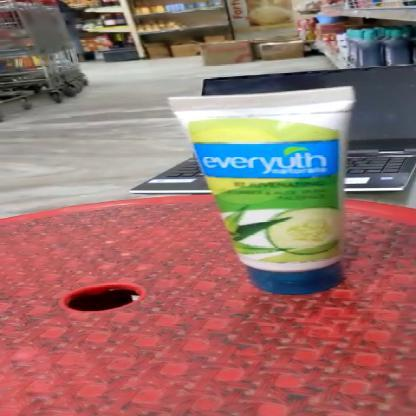EY RJ CUCUMBER ALOEVERA FACEPAK50G: (166, 91, 366, 295)
